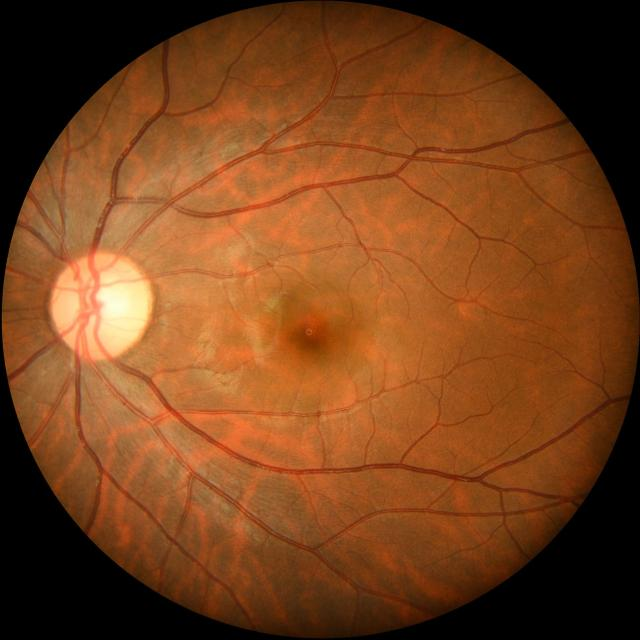OC: (78, 273, 126, 325)
OD: (49, 252, 152, 360)
